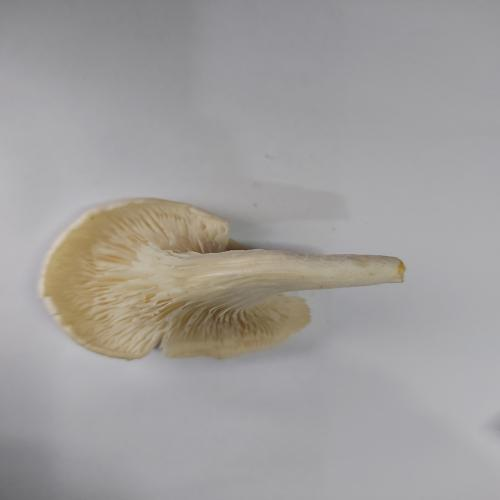Oyster Mushroom: (38, 196, 406, 361)
